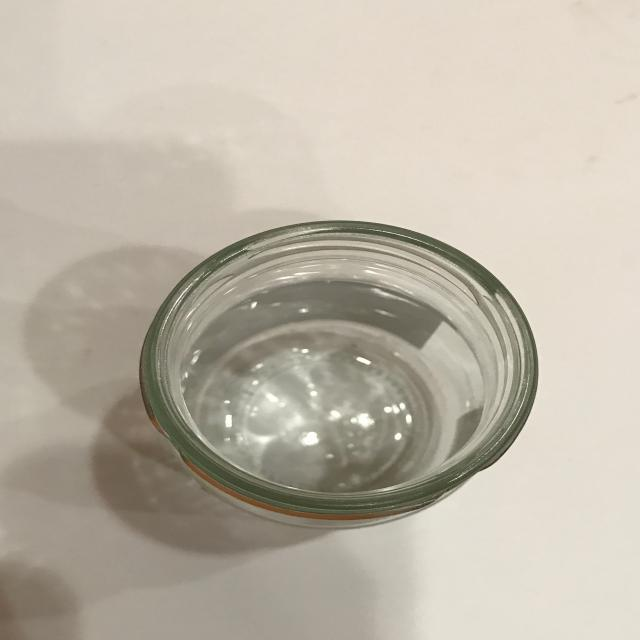glass: (138, 218, 541, 531)
